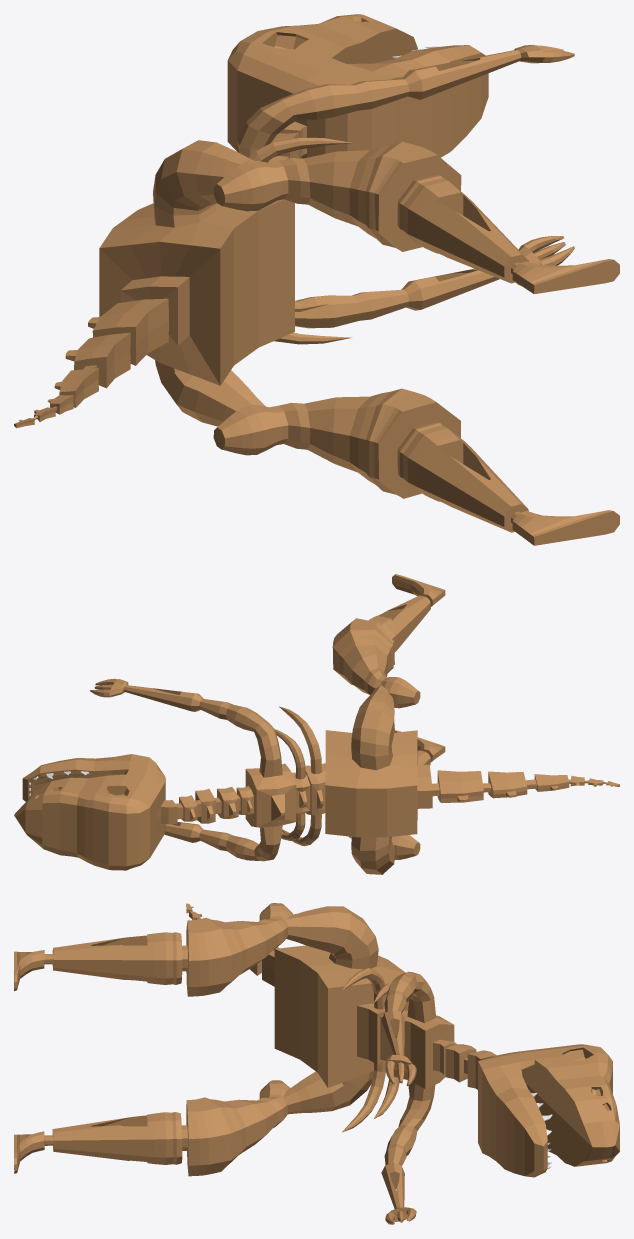
The model's file is skeleton.fbx.
3 views of the same model, one above another, from view 1: azimuth 30°, elevation 25°; view 2: azimuth 150°, elevation 25°; view 3: azimuth 270°, elevation 25° (orthographic). The views are drawn at different scales.
Visible parts, largest first — view 1: skeleton.8, skeleton.7, skeleton.6, skeleton.1, skeleton.9, skeleton.4, skeleton.5, skeleton.3; view 2: skeleton.1, skeleton.8, skeleton.6, skeleton.3, skeleton.9, skeleton.4, skeleton.7, skeleton.2, skeleton.5; view 3: skeleton.8, skeleton.1, skeleton.7, skeleton.6, skeleton.3, skeleton.4, skeleton.5, skeleton.2, skeleton.9.
Boxes of the visible parts, bbox=[...] form: skeleton.8: bbox=[153, 140, 619, 294]; skeleton.7: bbox=[155, 360, 619, 545]; skeleton.6: bbox=[99, 199, 294, 385]; skeleton.1: bbox=[227, 14, 488, 158]; skeleton.9: bbox=[14, 276, 189, 428]; skeleton.4: bbox=[237, 45, 574, 162]; skeleton.5: bbox=[295, 236, 574, 328]; skeleton.3: bbox=[248, 137, 351, 344]; skeleton.1: bbox=[14, 754, 165, 870]; skeleton.8: bbox=[332, 574, 445, 770]; skeleton.6: bbox=[325, 730, 417, 837]; skeleton.3: bbox=[245, 706, 325, 846]; skeleton.9: bbox=[417, 764, 619, 808]; skeleton.4: bbox=[90, 678, 282, 777]; skeleton.7: bbox=[348, 730, 445, 874]; skeleton.2: bbox=[160, 786, 253, 824]; skeleton.5: bbox=[164, 822, 282, 861]; skeleton.8: bbox=[14, 903, 378, 996]; skeleton.1: bbox=[478, 1044, 619, 1177]; skeleton.7: bbox=[14, 1070, 373, 1176]; skeleton.6: bbox=[274, 945, 408, 1087]; skeleton.3: bbox=[341, 968, 454, 1132]; skeleton.4: bbox=[381, 971, 436, 1086]; skeleton.5: bbox=[381, 1082, 435, 1224]; skeleton.2: bbox=[433, 1039, 496, 1089]; skeleton.9: bbox=[186, 903, 279, 986].
Size of the model in its own units: 8.18 by 8.25 by 3.67.
